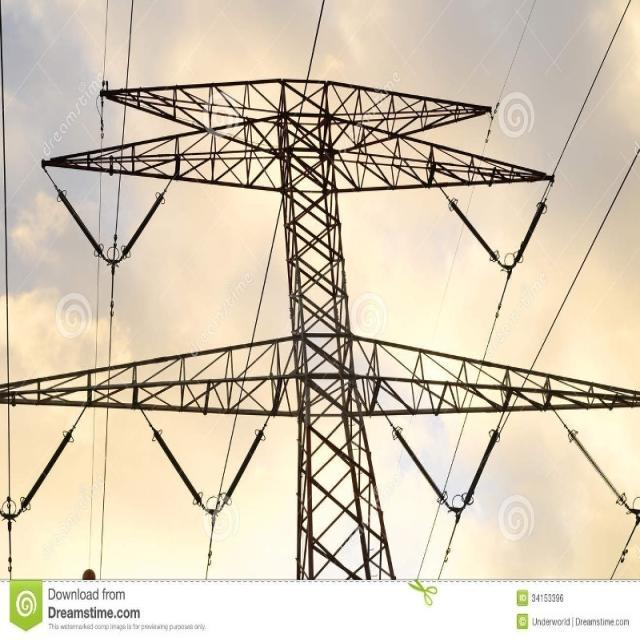non-critical vegetation: (34, 49, 592, 567)
